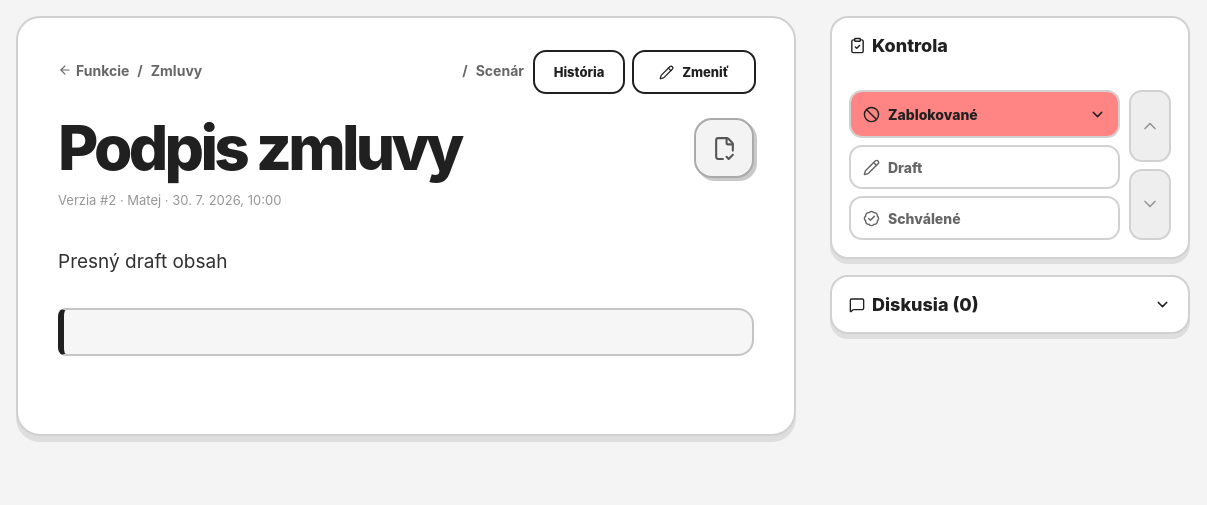
PagePage revision links › explains why a scenario draft cannot be approved before its parent feature
Step 1. Click the heading "Zablokované" → [933, 114], box [851, 92, 1118, 136]
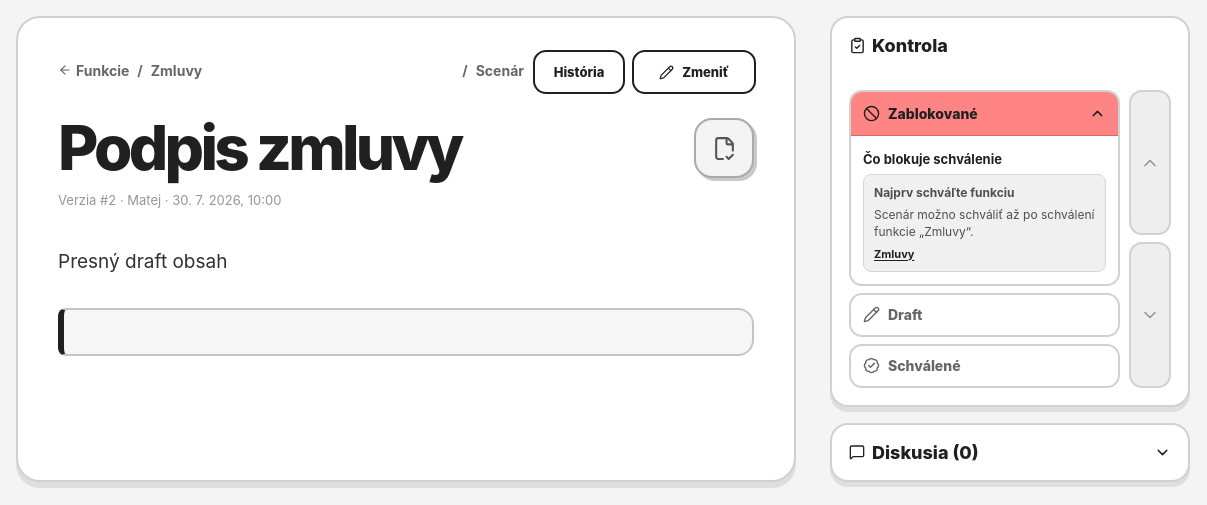
Expected: the button named "Schváliť" is disabled, [1129, 242, 1171, 388]
Expected: the text "Najprv schváľte funkciu" is shown, [874, 185, 1014, 200]
Expected: the text "Scenár možno schváliť až po schválení funkcie „Zmluvy“." is shown, [874, 206, 1095, 241]
